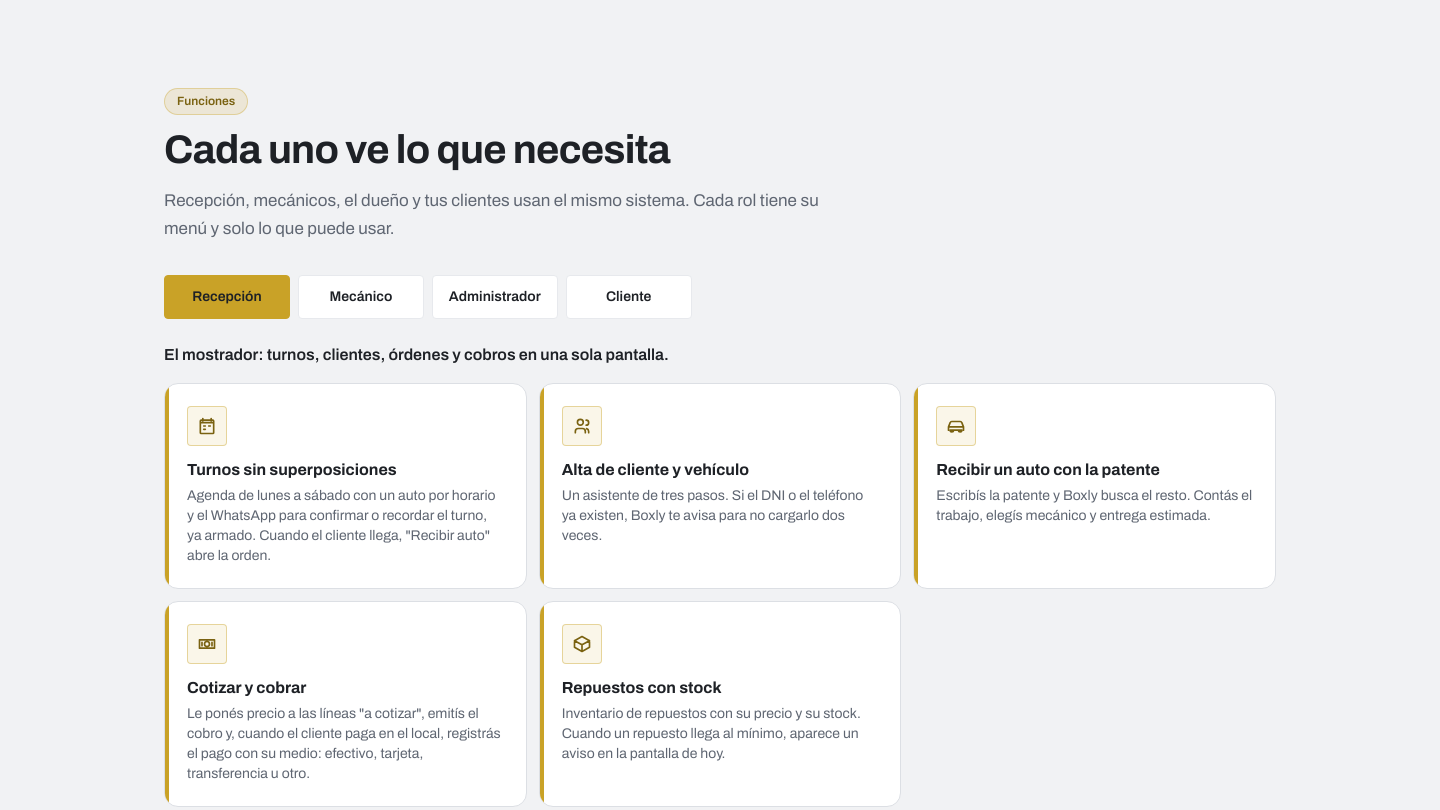
Test case: Funciones por rol › al tocar una pestaña cambia el contenido
Click the tab "Mecánico". click: (361, 297)
box: [298,275,424,319]
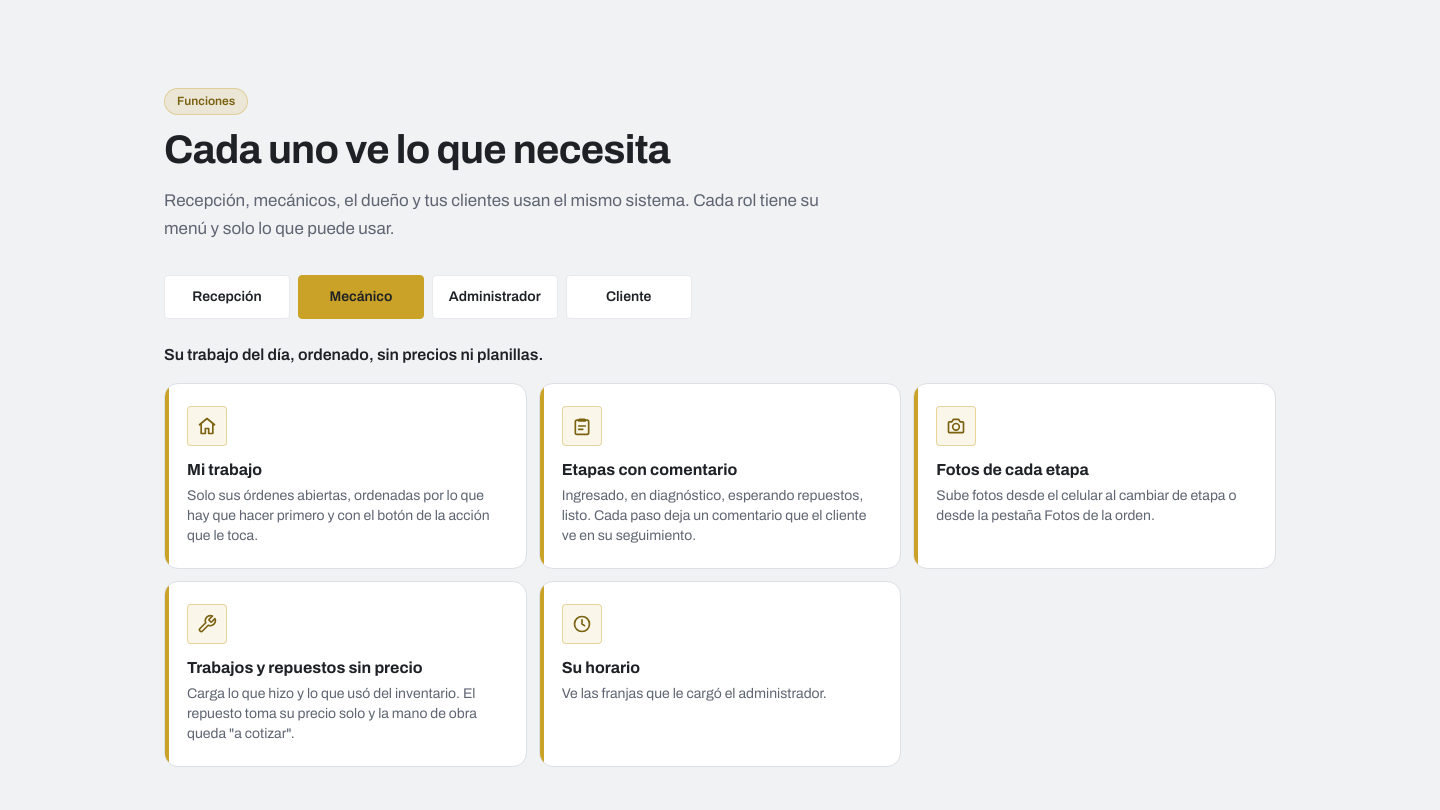
Expected: the number of panels is 1, [164,343,1276,767]
Expected: the heading "Mi trabajo" is shown, [187,461,262,478]
Expected: the heading "Turnos sin superposiciones" is gone
